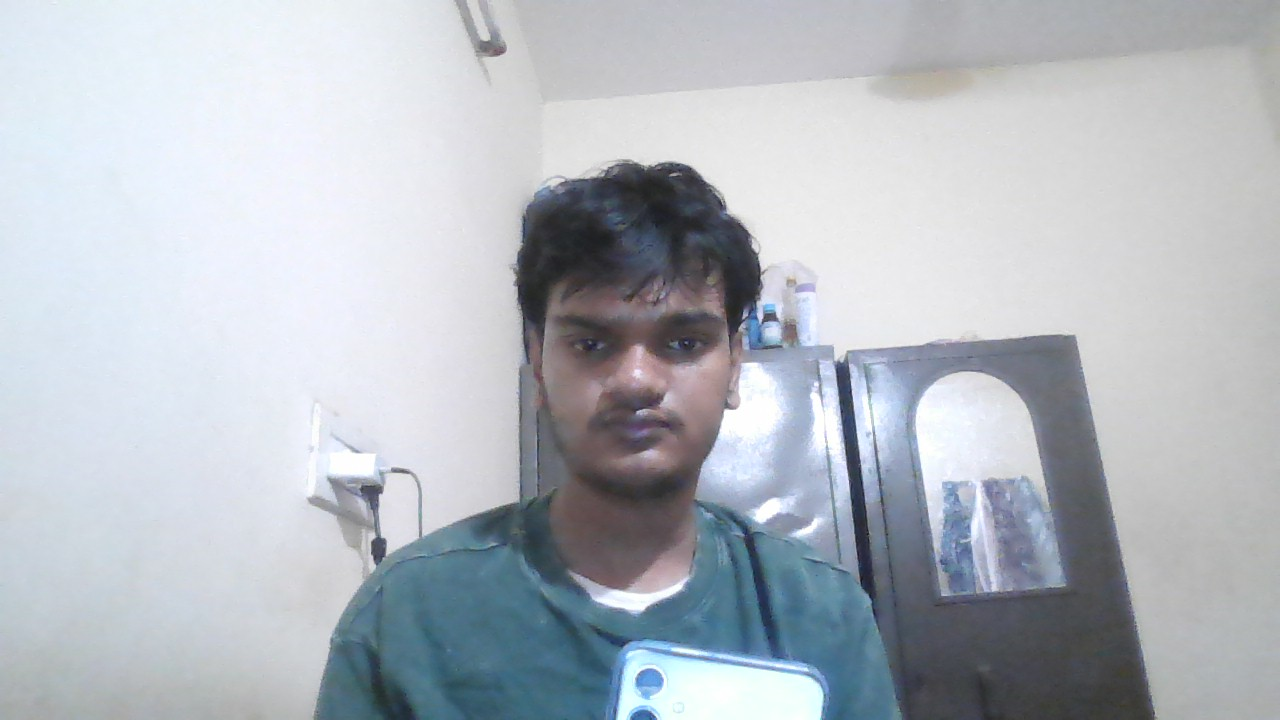phone: (601, 634, 831, 720)
